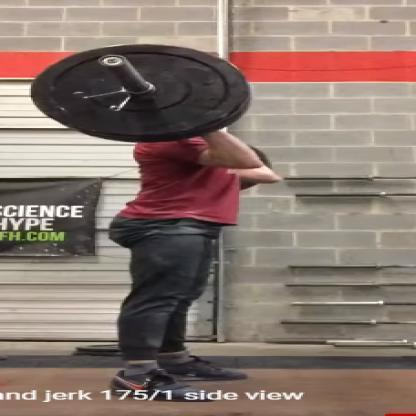barbell: (28, 42, 253, 144)
